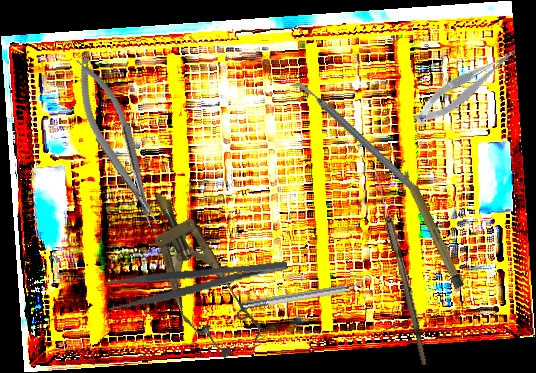Chopper: (288, 52, 418, 220)
Dressing Forceps: (104, 256, 291, 312)
Fixation Ring: (240, 273, 375, 316)
Micro Scissor: (406, 44, 527, 130)
Needle Holder: (66, 50, 166, 235)
Scalpel Handle: (401, 168, 465, 290)
Speculum: (127, 179, 269, 367)
Surgical Spoon: (369, 166, 432, 366)
